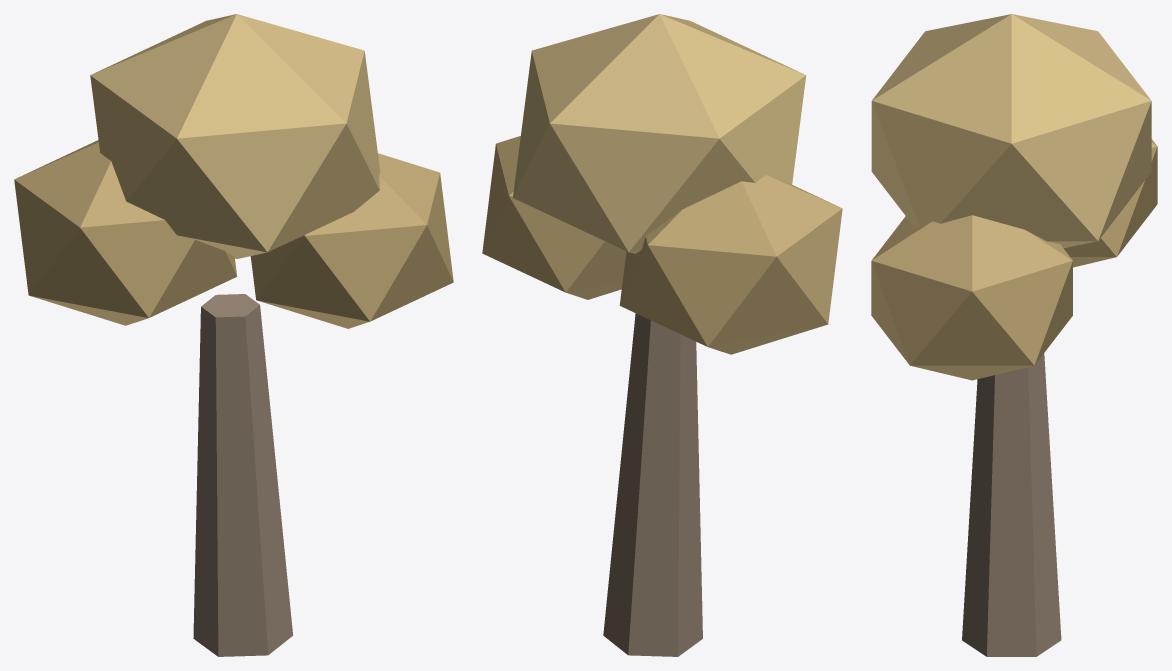
The model's file is tree_autumn.glb.
3 views of the same model, side by side, from view 1: azimuth 30°, elevation 25°; view 2: azimuth 150°, elevation 25°; view 3: azimuth 270°, elevation 25° (orthographic).
Parts seen in each view (by area): view 1: tree_autumn; view 2: tree_autumn; view 3: tree_autumn.
Part boxes in pixels (x1=…): tree_autumn: x1=14, y1=14, x2=453, y2=656; tree_autumn: x1=482, y1=14, x2=842, y2=656; tree_autumn: x1=871, y1=14, x2=1157, y2=656.
Size of the model in its own units: 0.3255 by 0.5237 by 0.2174.
